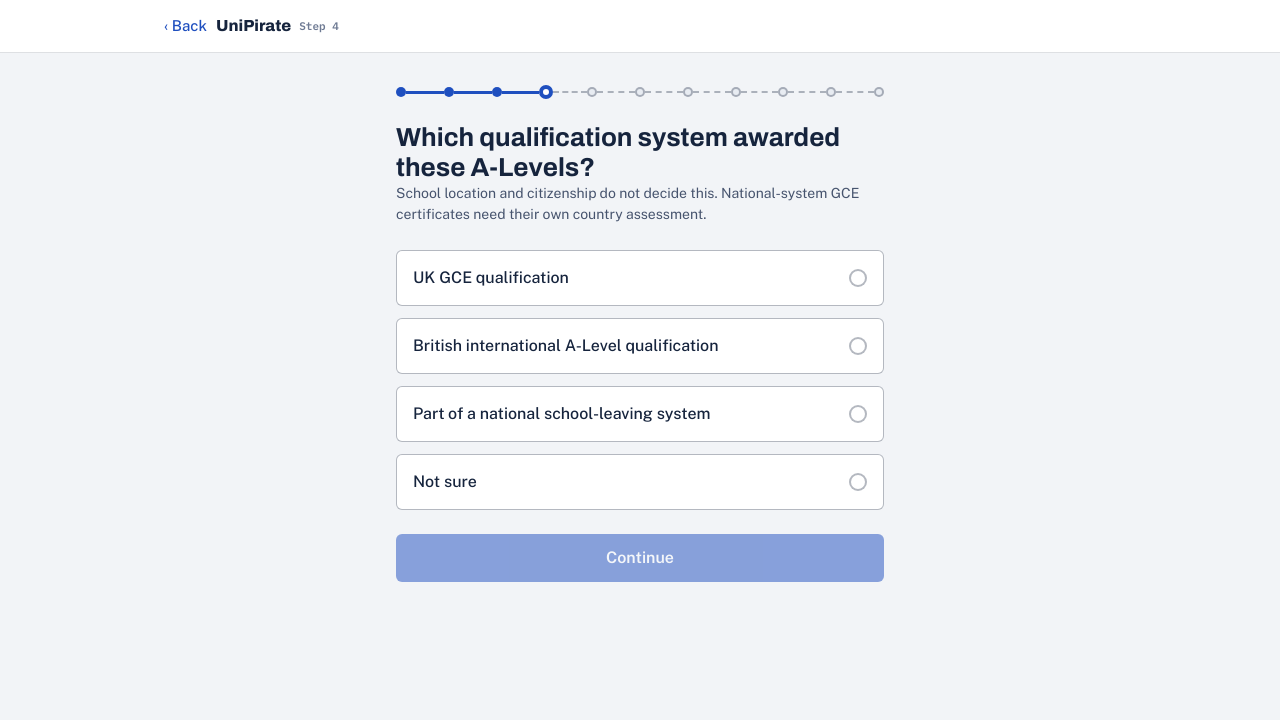
mounted checker selects british_international and retains it through Continue, Back and draft remount
Expected: the button "Continue" is disabled, [396,534,884,582]
What coordinates should you click on to do the following:
click the button "British international A-Level qualification"
I would click on:
 (640, 346)
Its box is [396,318,884,374].
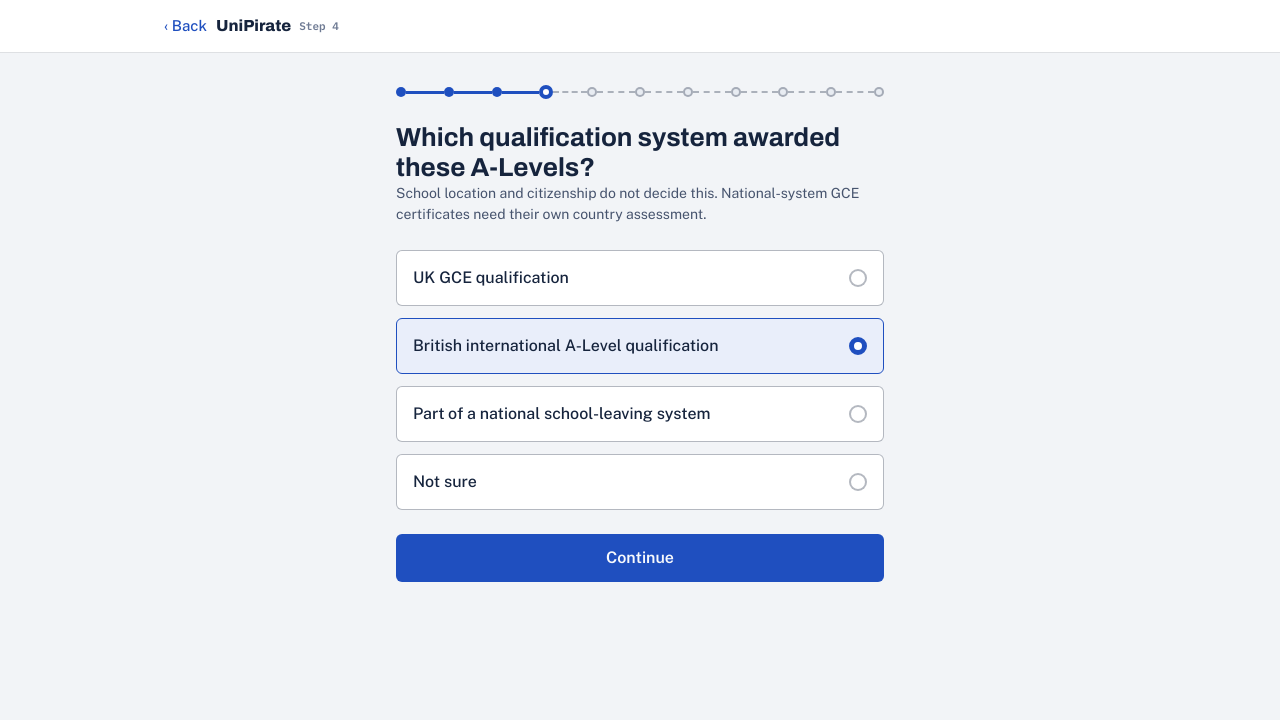
Now the button "Continue" is enabled
What coordinates should you click on to do the following:
click the button "Continue"
I would click on:
 (640, 558)
Its box is [396,534,884,582].
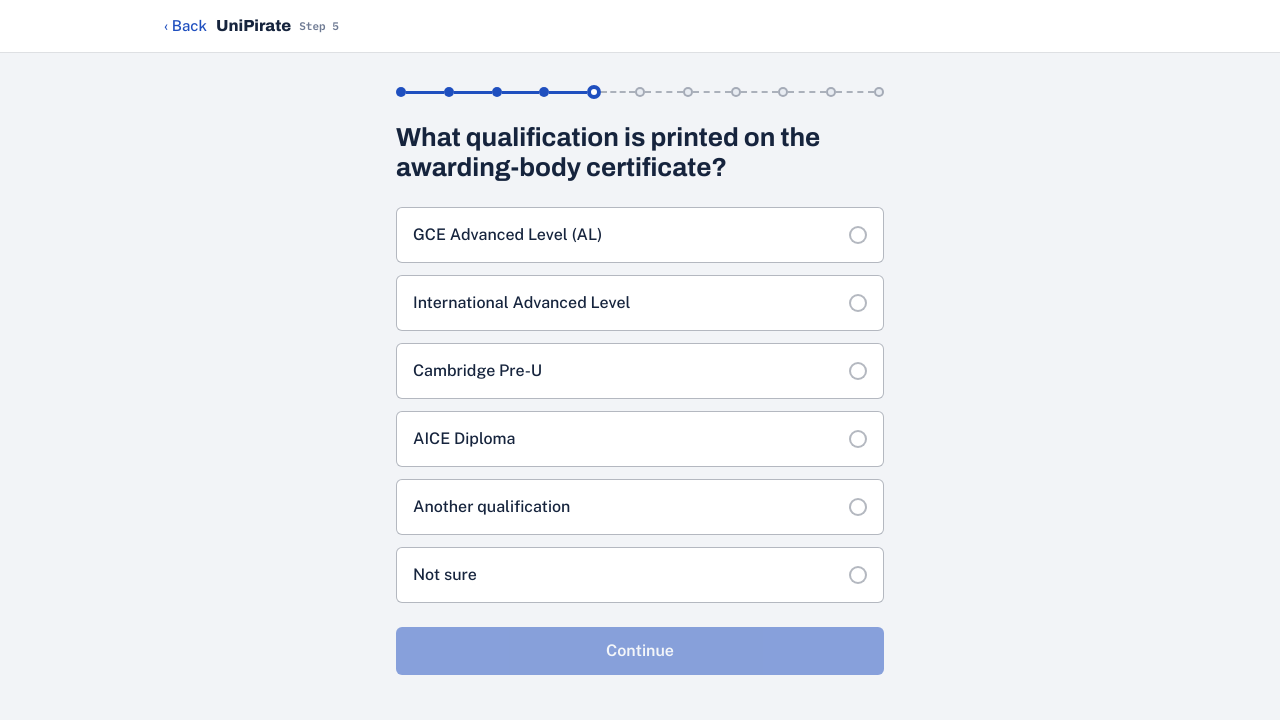
Now the heading shows "printed on", box [396,123,820,181]
What coordinates should you click on to do the following:
click the button "‹ Back"
I would click on:
 (186, 26)
Its box is [164,4,208,48].
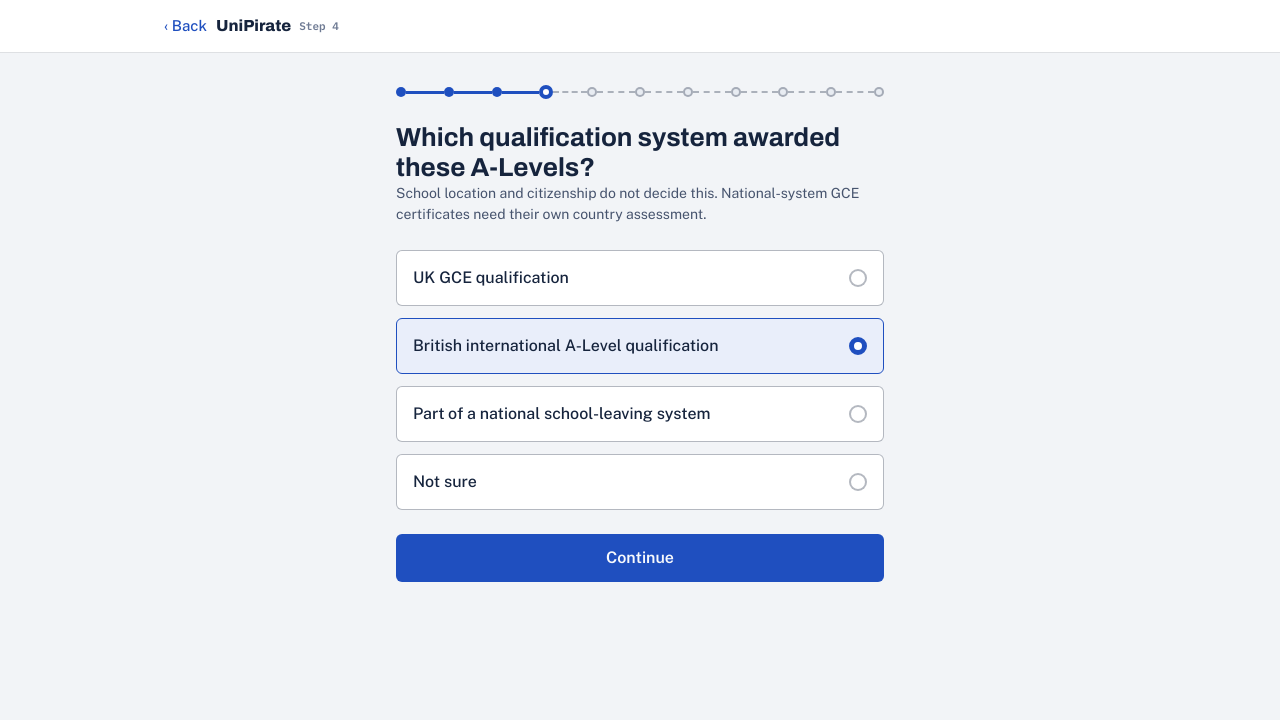
Now the button "Continue" is enabled, box [396,534,884,582]
